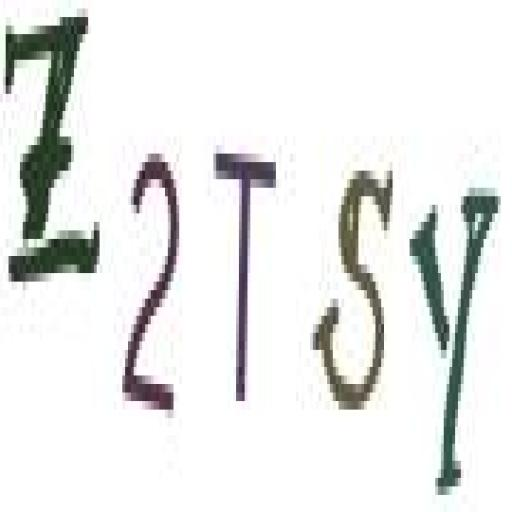2: (122, 138, 182, 423)
T: (210, 134, 279, 408)
Y: (406, 169, 498, 500)
Z: (4, 8, 106, 292)
s: (312, 148, 396, 430)
